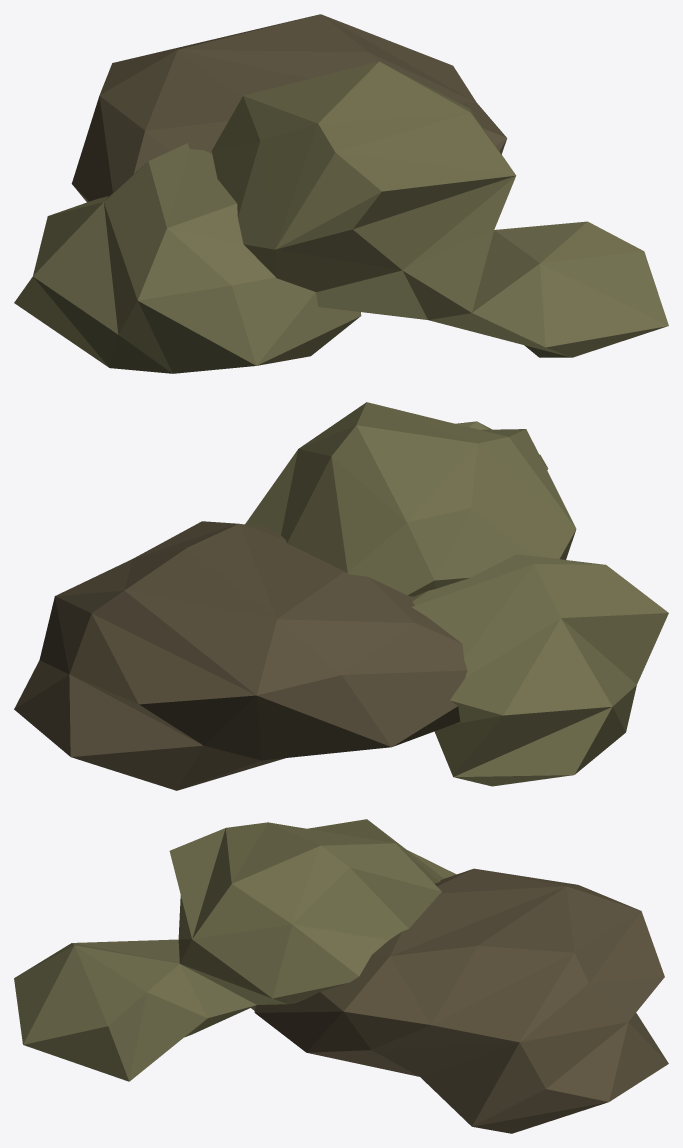
The model's file is SM_Env_Bush_Large_05.glb.
The picture shows the model from 3 angles, top to bottom: view 1: azimuth 30°, elevation 25°; view 2: azimuth 150°, elevation 25°; view 3: azimuth 270°, elevation 25°; orthographic projection. The views are drawn at different scales.
Visible parts, largest first — view 1: SM_Env_Bush_Large_05; view 2: SM_Env_Bush_Large_05; view 3: SM_Env_Bush_Large_05.
Boxes of the visible parts, x1,y1,x2,y2 form: SM_Env_Bush_Large_05: (14, 14, 668, 373); SM_Env_Bush_Large_05: (14, 402, 668, 790); SM_Env_Bush_Large_05: (14, 819, 668, 1133).
Size of the model in its own units: 4.67 by 2.29 by 6.07.
1 material, 1 textured.
